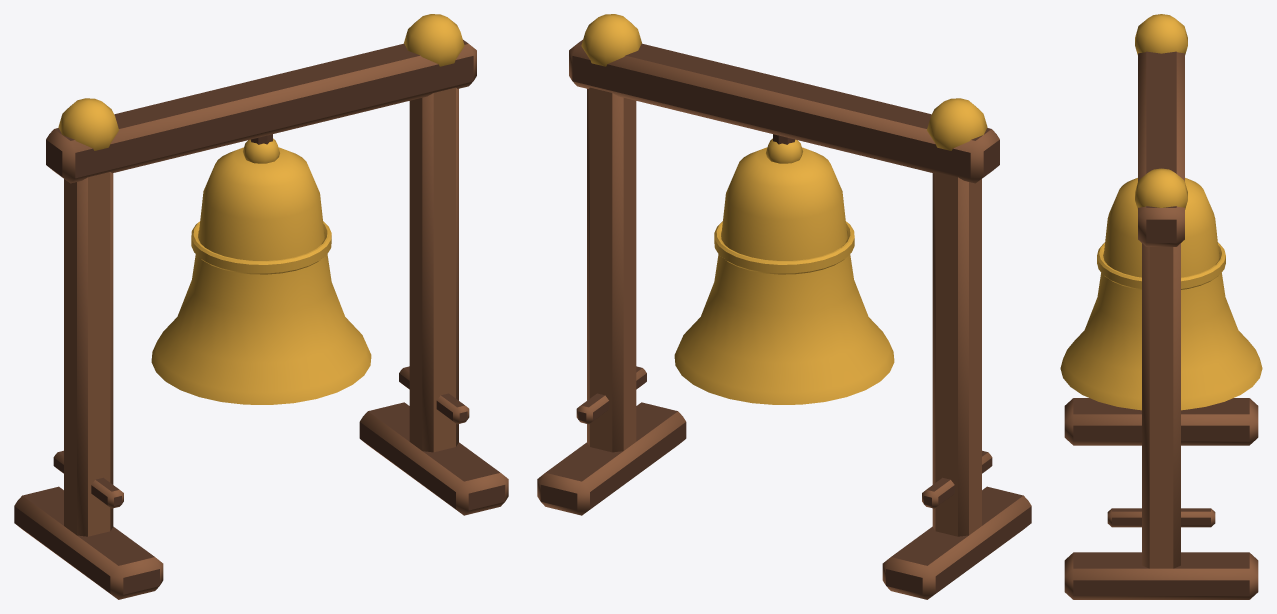
Rendered from toy_bell.glb.
The picture shows the model from 3 angles, left to right: view 1: azimuth 30°, elevation 25°; view 2: azimuth 150°, elevation 25°; view 3: azimuth 270°, elevation 25°; orthographic projection. The views are drawn at different scales.
Parts seen in each view (by area): view 1: Frame, Bell; view 2: Frame, Bell; view 3: Frame, Bell.
Part boxes in pixels (left/top/right/bottom): Frame: left=14, top=14, right=508, bottom=599; Bell: left=151, top=138, right=371, bottom=404; Frame: left=537, top=14, right=1031, bottom=599; Bell: left=674, top=138, right=894, bottom=404; Frame: left=1064, top=14, right=1258, bottom=599; Bell: left=1060, top=178, right=1262, bottom=410.
Size of the model in its own units: 2.04 by 2.16 by 0.94.
